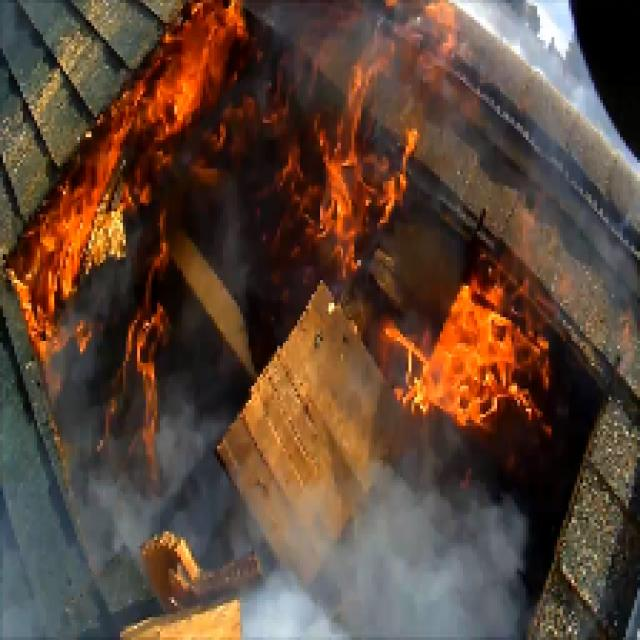fire: (410, 278, 545, 442), (22, 179, 129, 287), (119, 39, 234, 137)
smoke: (345, 491, 513, 632)
